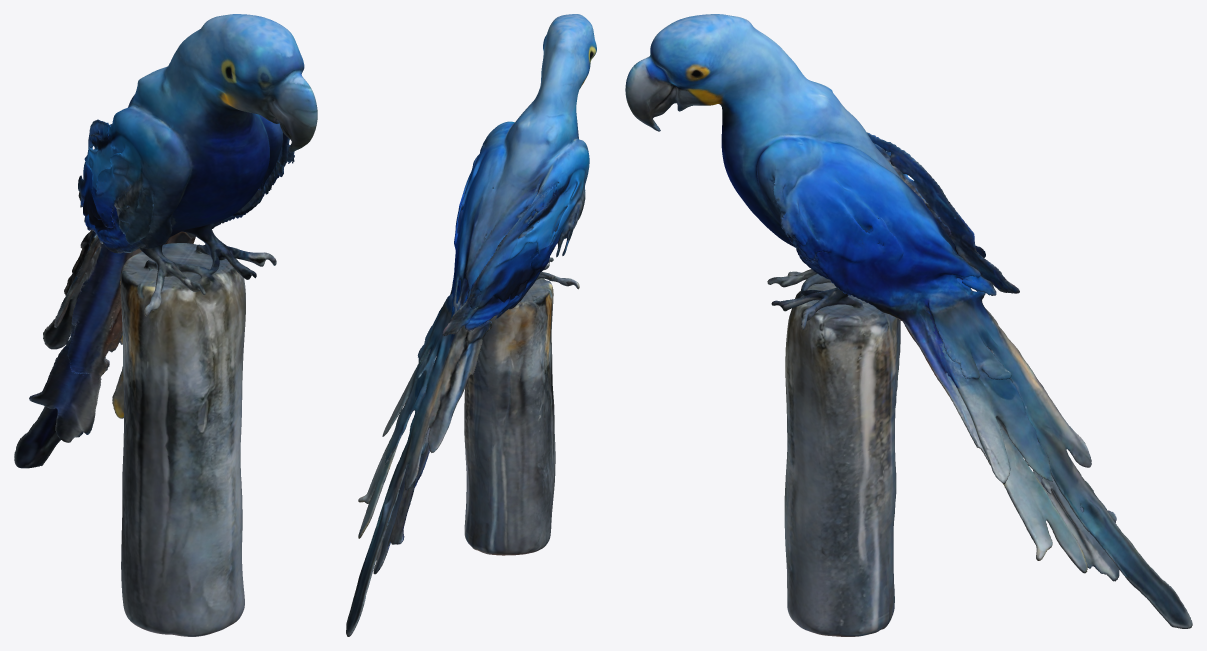
The model's file is nm__hyacinth.glb.
3 views of the same model, side by side, from view 1: azimuth 30°, elevation 25°; view 2: azimuth 150°, elevation 25°; view 3: azimuth 270°, elevation 25° (orthographic). The views are drawn at different scales.
Visible parts, largest first — view 1: Object_4, Object_5, Object_6; view 2: Object_4, Object_5, Object_6; view 3: Object_4, Object_5, Object_6.
Part boxes in pixels (x1,y1,x2,y2): Object_4: (87, 14, 317, 636); Object_5: (14, 119, 245, 636); Object_6: (43, 132, 243, 636); Object_4: (358, 14, 596, 554); Object_5: (346, 168, 588, 636); Object_6: (380, 214, 555, 555); Object_4: (625, 14, 1087, 636); Object_5: (784, 137, 1192, 636); Object_6: (785, 157, 1079, 634).
Bounding box in the file's own units: 0.5682 × 2 × 1.72.
1 material, 1 textured.
